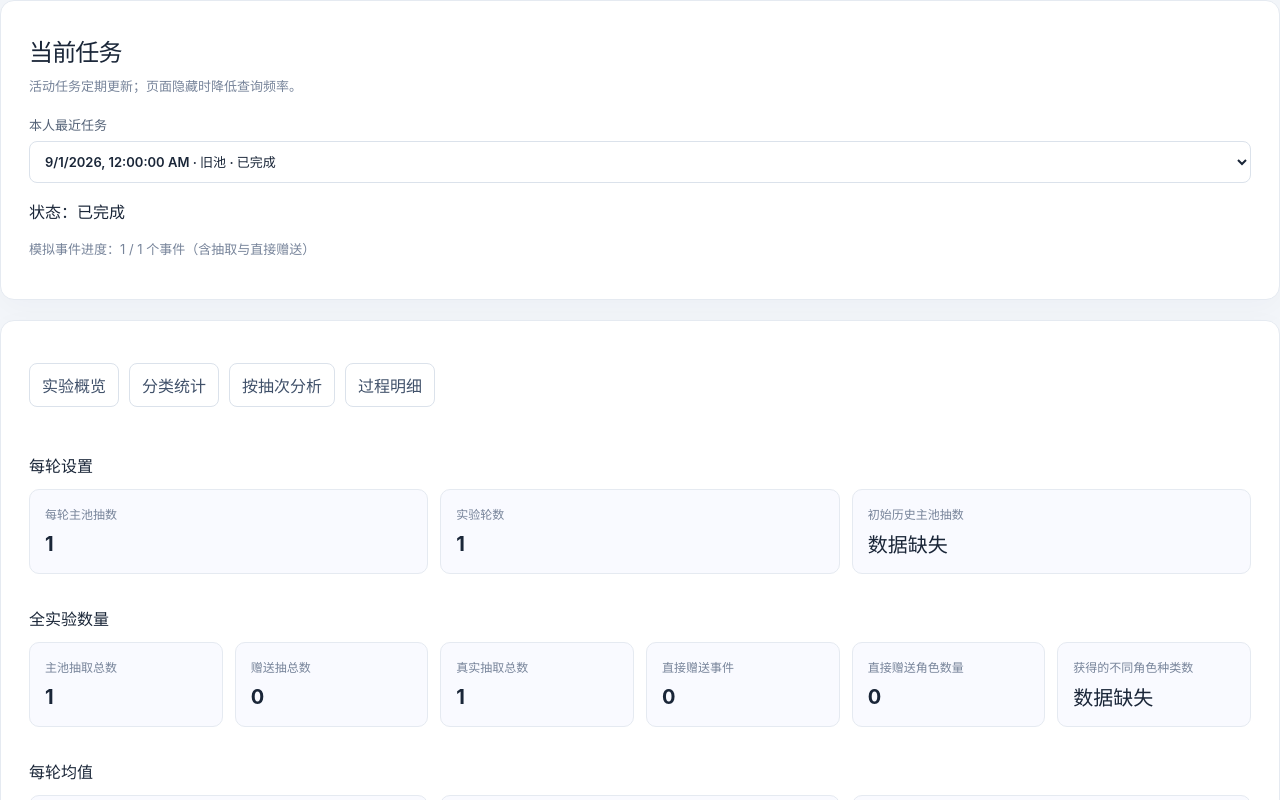
it: clears the selected task and result when the job selection is emptied
Select "选择任务" in the dropdown labelled "本人最近任务" at (640, 162), box top-left (29, 141), bottom-right (1251, 183)
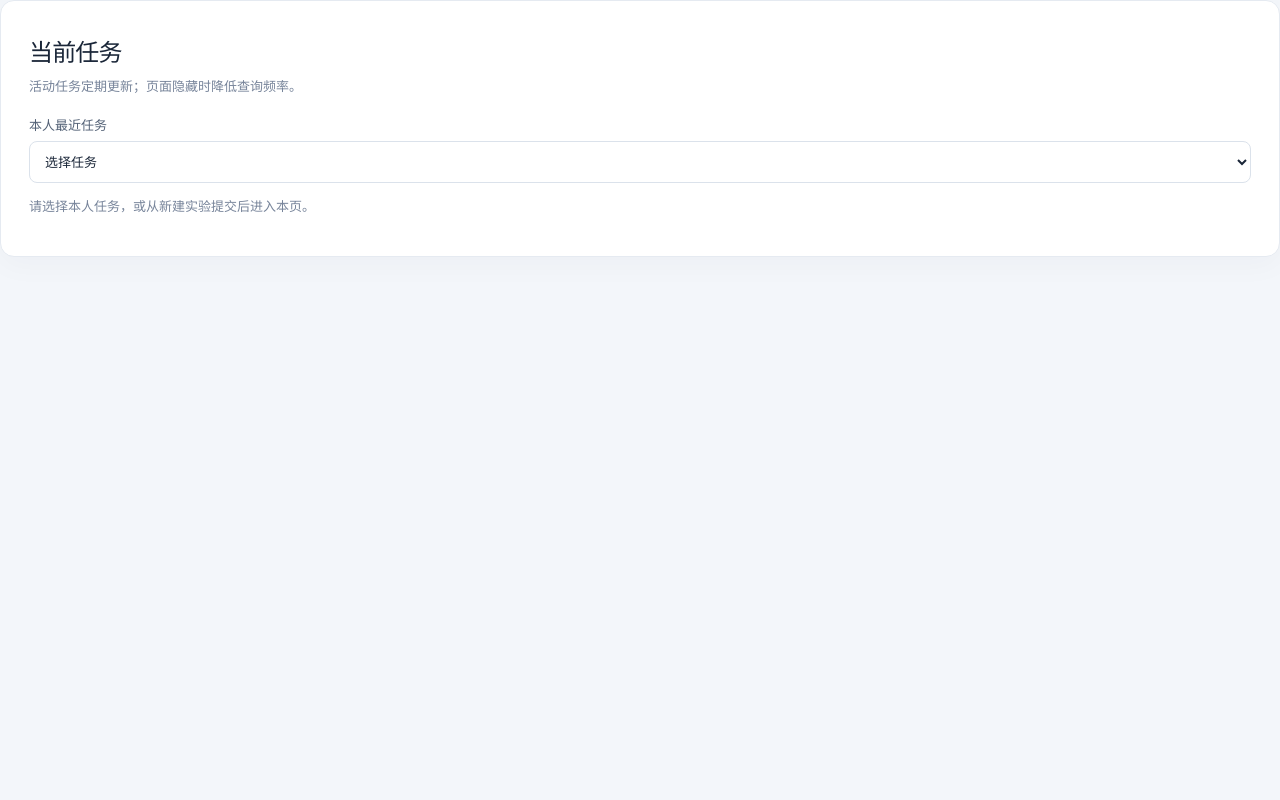
Check: the text "请选择本人任务，或从新建实验提交后进入本页。" is shown, box top-left (29, 198), bottom-right (315, 214)
Check: the text "状态：已完成" is gone
